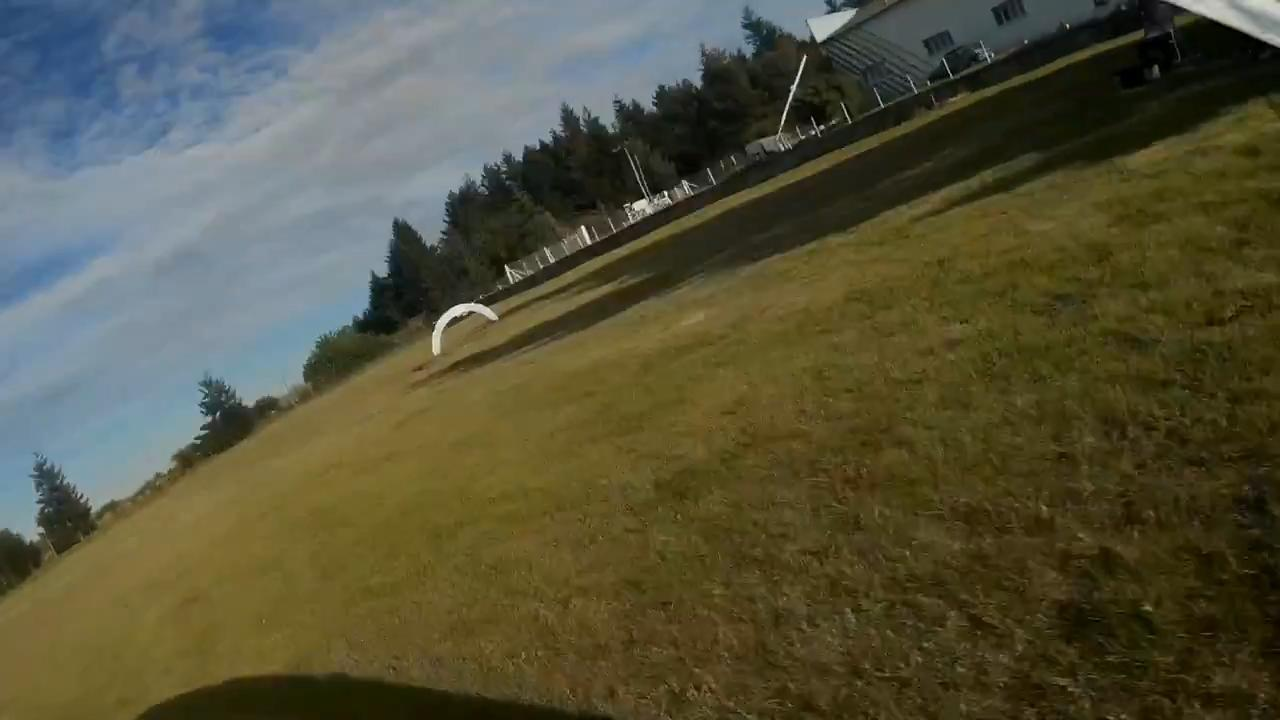gate: (427, 302, 498, 358)
